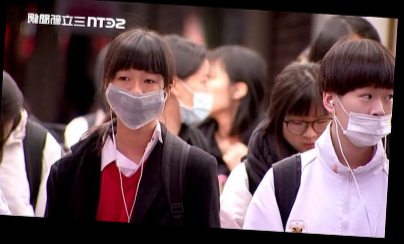mask_weared_incorrect: (332, 88, 391, 148)
with_mask: (103, 71, 164, 132), (178, 70, 215, 128)
without_mask: (281, 110, 332, 155)
